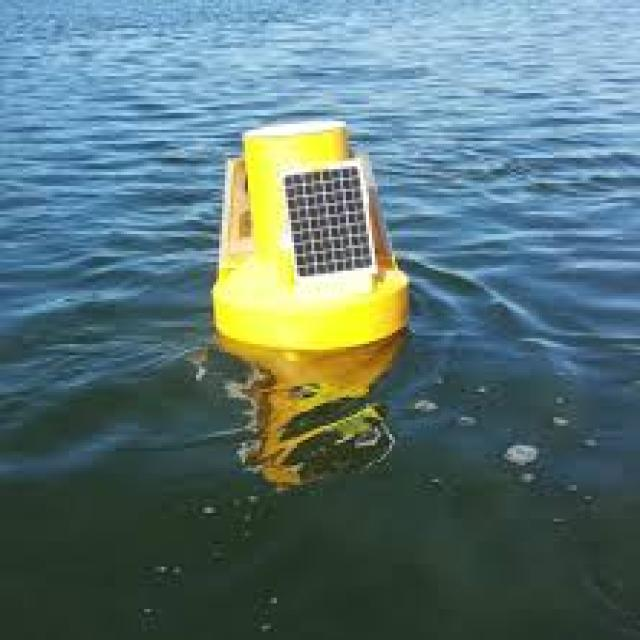2.5 sepcial mark: (200, 102, 417, 359)
